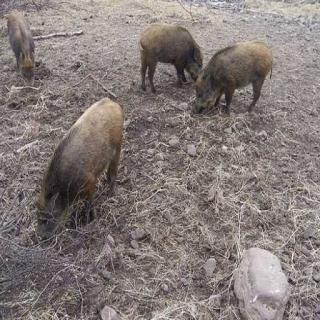Pig: (28, 69, 138, 255), (187, 21, 274, 118), (123, 0, 208, 85)
